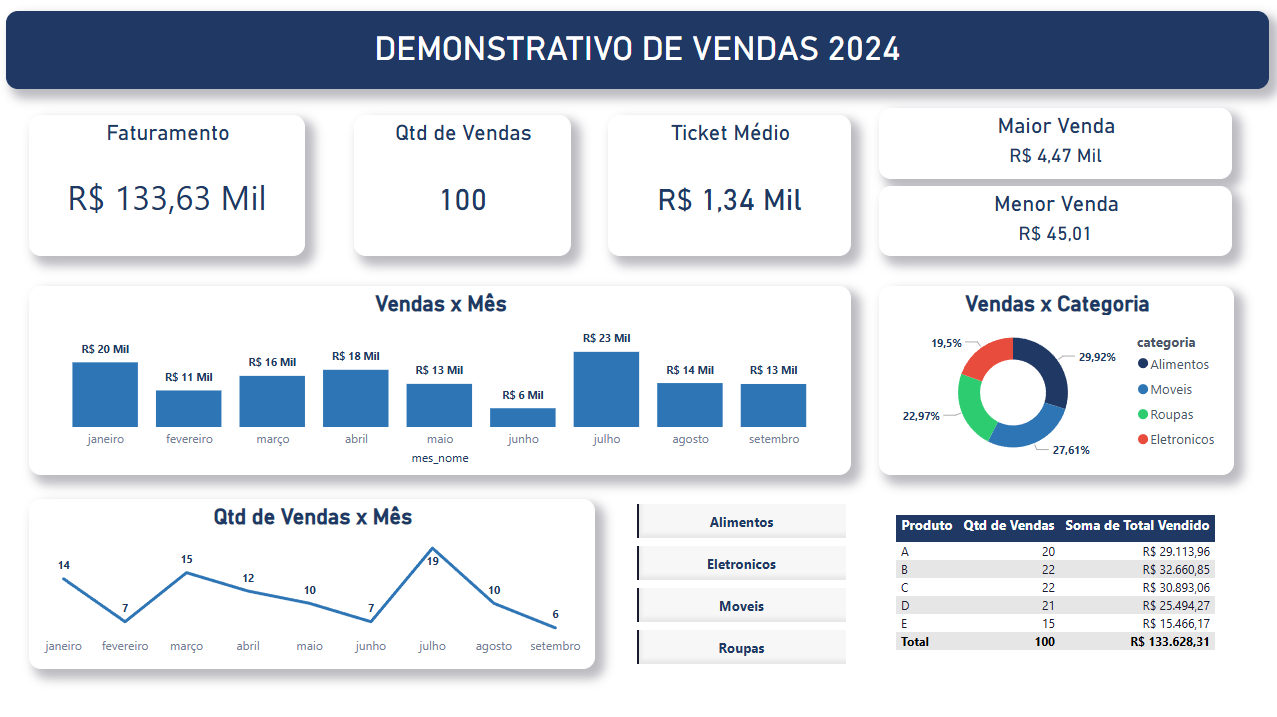

This screenshot's page, from the dashboard's own definition file:
{"tool":"powerbi","page":{"name":"Página 1","canvas":[1280,720],"ordinal":0},"visuals":[{"type":"card","title":"Ticket Médio","fields":{"Values":["DAX GERENCIAL.Ticket_Medio"]},"box":[609.8,115.7,243.2,141],"z":0},{"type":"textbox","box":[7.8,11.7,1263.5,78.8],"z":1},{"type":"card","title":"Qtd de Vendas","fields":{"Values":["DAX GERENCIAL.Quantidade_de_Vendas"]},"box":[356,115.7,216.9,141],"z":2},{"type":"card","title":"Faturamento","fields":{"Values":["Sum(vendas.total_vendas)"]},"box":[31.1,115.7,276.2,141],"z":3},{"type":"card","title":"Maior Venda","fields":{"Values":["DAX GERENCIAL.Maior_Venda"]},"box":[881.2,108.9,353.1,71],"z":4},{"type":"card","title":"Menor Venda","fields":{"Values":["DAX GERENCIAL.Menor_Venda"]},"box":[881.2,186.7,353.1,70],"z":5},{"type":"donutChart","title":"Vendas x Categoria","fields":{"Category":["vendas.categoria"],"Y":["Sum(vendas.total_vendas)"]},"box":[881.2,286.9,355,188.7],"z":6},{"type":"columnChart","title":"Vendas x Mês","fields":{"Category":["vendas.mes_nome"],"Y":["Sum(vendas.total_vendas)"]},"box":[31.1,286.9,821.9,188.7],"z":7},{"type":"tableEx","fields":{"Values":["vendas.produto","DAX GERENCIAL.Quantidade_de_Vendas","Sum(vendas.total_vendas)"]},"box":[891.9,510.6,333.6,148.8],"z":8},{"type":"advancedSlicerVisual","fields":{"Values":["vendas.categoria"]},"box":[634.2,499.9,218.8,170.2],"z":9},{"type":"lineChart","title":"Qtd de Vendas x Mês","fields":{"Category":["vendas.mes_nome"],"Y":["DAX GERENCIAL.Qtd de Vendas"]},"box":[31.1,499.9,566.1,170.2],"z":10}]}

Visuals, with their boxes in screenshot pixels (x1, y1, x2, y2), scaled from the page's 1280x720 canvas onto the 1277x717 screenshot:
"Ticket Médio" card: bbox=(608, 115, 851, 256)
textbox: bbox=(8, 12, 1268, 90)
"Qtd de Vendas" card: bbox=(355, 115, 572, 256)
"Faturamento" card: bbox=(31, 115, 307, 256)
"Maior Venda" card: bbox=(879, 108, 1231, 179)
"Menor Venda" card: bbox=(879, 186, 1231, 256)
"Vendas x Categoria" donutChart: bbox=(879, 286, 1233, 474)
"Vendas x Mês" columnChart: bbox=(31, 286, 851, 474)
tableEx - vendas.produto x DAX GERENCIAL.Quantidade_de_Vendas: bbox=(890, 508, 1223, 657)
advancedSlicerVisual - vendas.categoria: bbox=(633, 498, 851, 667)
"Qtd de Vendas x Mês" lineChart: bbox=(31, 498, 596, 667)
